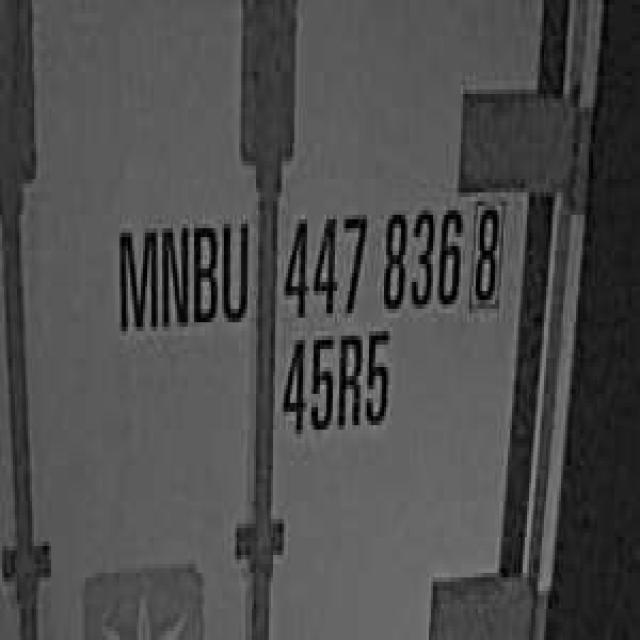dv: (467, 188, 508, 318)
owner: (109, 202, 254, 340)
serial: (275, 188, 465, 327)
size: (277, 322, 397, 448)
